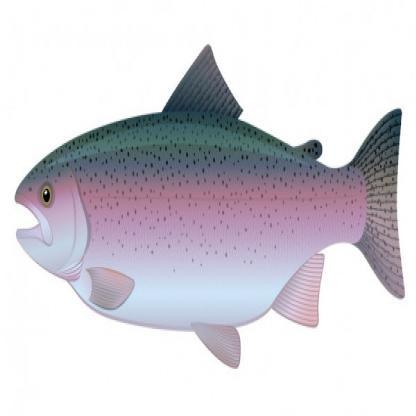fish: (13, 40, 404, 372)
